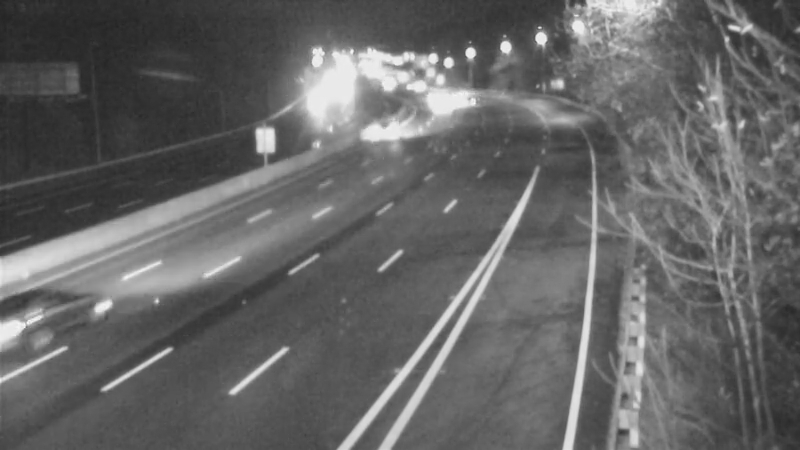vehicle: (1, 266, 93, 376), (419, 80, 469, 130), (357, 110, 407, 160), (284, 81, 334, 131)
